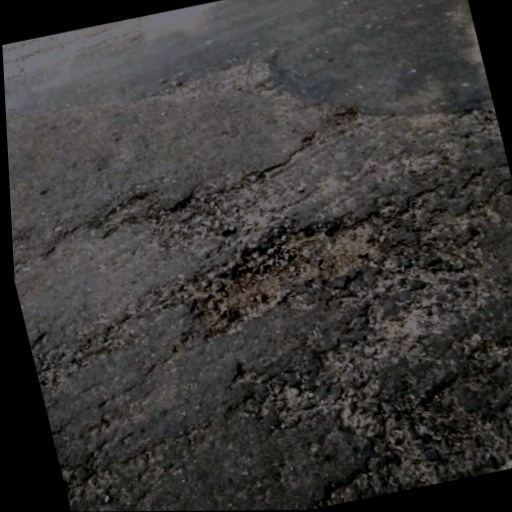pothole: (174, 207, 403, 344), (162, 169, 275, 247)
